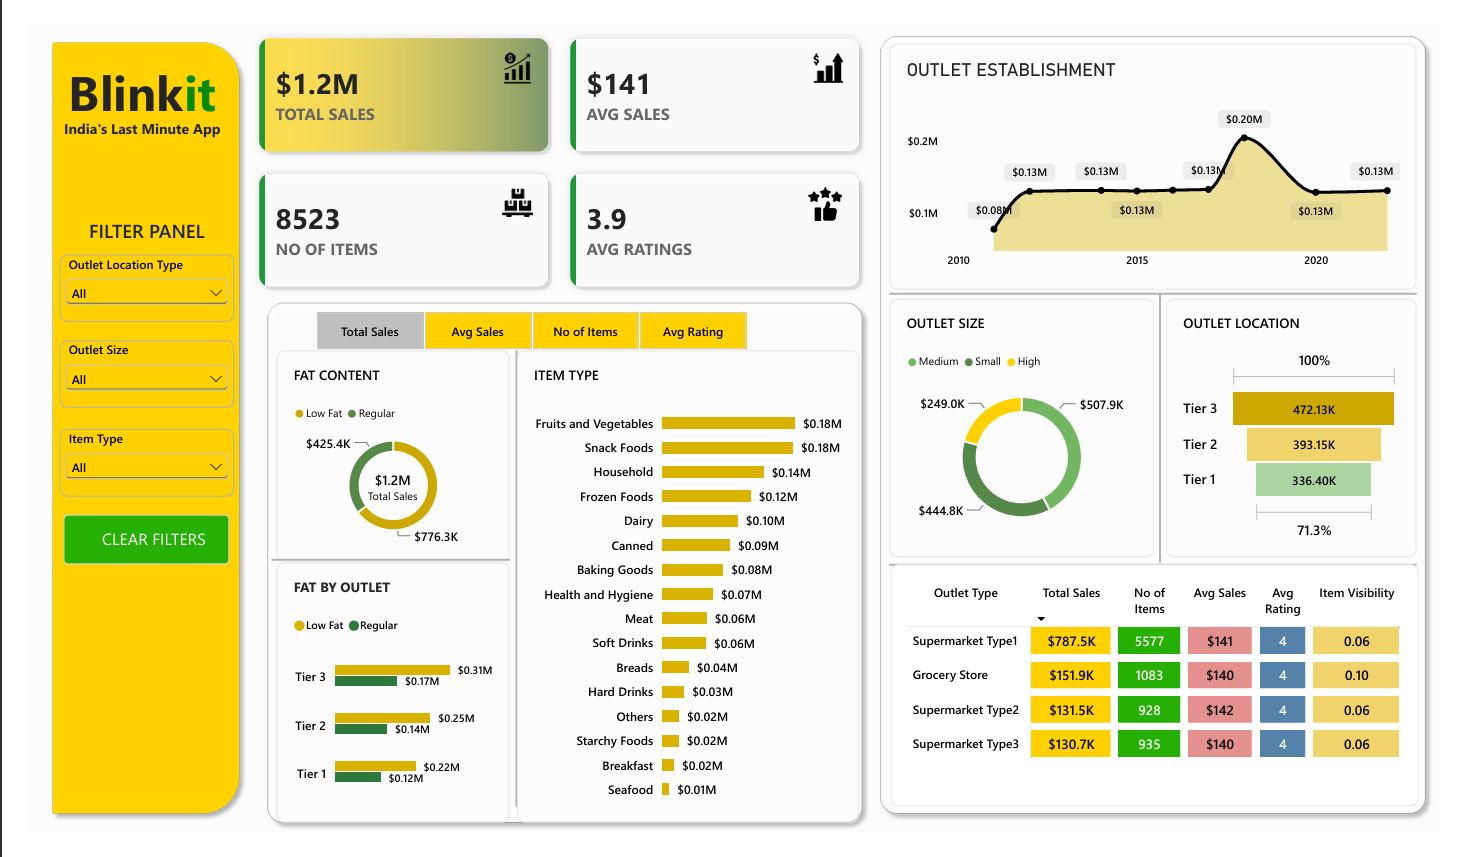

Layout of this report page (visuals, bound fields, positions):
{"tool":"powerbi","page":{"name":"Dashboard","canvas":[1400,800],"ordinal":0},"visuals":[{"type":"shape","box":[16.5,8.9,203.5,782.2],"z":0},{"type":"textbox","box":[33.1,34.3,164.1,71.2],"z":1000},{"type":"textbox","box":[33.1,94.1,164.1,28],"z":2000},{"type":"cardVisual","fields":{"Data":["BlinkIT Grocery Data.Total Sales","BlinkIT Grocery Data.Avg Sales","BlinkIT Grocery Data.Number of Items","BlinkIT Grocery Data.Avg Rating"]},"box":[220,2.5,616.8,269.6],"z":3000},{"type":"image","box":[469.3,28,34.3,30.5],"z":4000},{"type":"image","box":[778.3,28,33.1,30.5],"z":5000},{"type":"image","box":[469.3,161.5,34.3,30.5],"z":6000},{"type":"image","box":[770.7,161.5,40.7,33.1],"z":7000},{"type":"shape","box":[230.2,267.1,606.7,532.9],"z":8000},{"type":"donutChart","title":"FAT CONTENT","fields":{"Category":["BlinkIT Grocery Data.Item Fat Content"],"Y":["BlinkIT Grocery Data.Total Sales"]},"box":[248,323,231.5,209.8],"z":9000},{"type":"slicer","fields":{"Values":["Metrics.Metrics"]},"box":[267.1,283.6,465,40],"z":10000},{"type":"cardVisual","fields":{"Data":["BlinkIT Grocery Data.Total Sales"]},"box":[316.7,427.3,92.8,64.9],"z":11000},{"type":"clusteredBarChart","title":"FAT BY OUTLET","fields":{"Category":["BlinkIT Grocery Data.Outlet Location Type"],"Series":["BlinkIT Grocery Data.Item Fat Content"],"Y":["BlinkIT Grocery Data.Total Sales"]},"box":[248,532.9,231.5,258.2],"z":12000},{"type":"shape","box":[242.9,527.8,236.6,5.1],"z":13000},{"type":"shape","box":[479.5,323,12.7,451.5],"z":14000},{"type":"barChart","title":"ITEM TYPE","fields":{"Category":["BlinkIT Grocery Data.Item Type"],"Y":["BlinkIT Grocery Data.Total Sales"]},"box":[485.8,323,339.6,468],"z":15000},{"type":"shape","box":[836.8,2.5,558.3,788.5],"z":16000},{"type":"lineChart","title":"OUTLET ESTABLISHMENT","fields":{"Category":["BlinkIT Grocery Data.Outlet Establishment Year"],"Y":["BlinkIT Grocery Data.Total Sales"]},"box":[854.7,19.1,522.7,244.2],"z":17000},{"type":"shape","box":[854.7,262,522.7,10.2],"z":18000},{"type":"donutChart","title":"OUTLET SIZE","fields":{"Category":["BlinkIT Grocery Data.Outlet Size"],"Y":["BlinkIT Grocery Data.Total Sales"]},"box":[854.7,272.2,262,255.6],"z":19000},{"type":"shape","box":[1116.6,267.1,12.7,265.8],"z":20000},{"type":"funnel","title":"OUTLET LOCATION","fields":{"Category":["BlinkIT Grocery Data.Outlet Location Type"],"Y":["Sum(BlinkIT Grocery Data.Sales)"]},"box":[1129.4,272.2,248,255.6],"z":21000},{"type":"shape","box":[854.7,530.3,522.7,10.2],"z":22000},{"type":"pivotTable","title":"OUTLET TYPE","fields":{"Rows":["BlinkIT Grocery Data.Outlet Type"],"Values":["BlinkIT Grocery Data.Total Sales","BlinkIT Grocery Data.No of Items","BlinkIT Grocery Data.Avg Sales","BlinkIT Grocery Data.Avg Rating","Avg(BlinkIT Grocery Data.Item Visibility)"]},"box":[855.9,535.4,522.7,239.1],"z":23000},{"type":"slicer","fields":{"Values":["BlinkIT Grocery Data.Outlet Location Type"]},"box":[33.1,227.7,173,67.4],"z":24000},{"type":"slicer","fields":{"Values":["BlinkIT Grocery Data.Outlet Size"]},"box":[33.1,312.9,173,67.4],"z":25000},{"type":"slicer","fields":{"Values":["BlinkIT Grocery Data.Item Type"]},"box":[33.1,400.6,173,67.4],"z":26000},{"type":"textbox","box":[33.1,192,173,26.7],"z":27000},{"type":"actionButton","box":[36.9,485.8,164.1,49.6],"z":27001}]}

Visuals, with their boxes in screenshot pixels (x1, y1, x2, y2), scaled from the page's 1400x800 canvas onto the 1462x857 screenshot:
shape: left=17, top=10, right=230, bottom=847
textbox: left=35, top=37, right=206, bottom=113
textbox: left=35, top=101, right=206, bottom=131
cardVisual - BlinkIT Grocery Data.Total Sales x BlinkIT Grocery Data.Avg Sales: left=230, top=3, right=874, bottom=291
image: left=490, top=30, right=526, bottom=63
image: left=813, top=30, right=847, bottom=63
image: left=490, top=173, right=526, bottom=206
image: left=805, top=173, right=847, bottom=208
shape: left=240, top=286, right=874, bottom=856
"FAT CONTENT" donutChart: left=259, top=346, right=501, bottom=571
slicer - Metrics.Metrics: left=279, top=304, right=765, bottom=347
cardVisual - BlinkIT Grocery Data.Total Sales: left=331, top=458, right=428, bottom=527
"FAT BY OUTLET" clusteredBarChart: left=259, top=571, right=501, bottom=847
shape: left=254, top=565, right=501, bottom=571
shape: left=501, top=346, right=514, bottom=830
"ITEM TYPE" barChart: left=507, top=346, right=862, bottom=847
shape: left=874, top=3, right=1457, bottom=847
"OUTLET ESTABLISHMENT" lineChart: left=893, top=20, right=1438, bottom=282
shape: left=893, top=281, right=1438, bottom=292
"OUTLET SIZE" donutChart: left=893, top=292, right=1166, bottom=565
shape: left=1166, top=286, right=1179, bottom=571
"OUTLET LOCATION" funnel: left=1179, top=292, right=1438, bottom=565
shape: left=893, top=568, right=1438, bottom=579
"OUTLET TYPE" pivotTable: left=894, top=574, right=1440, bottom=830
slicer - BlinkIT Grocery Data.Outlet Location Type: left=35, top=244, right=215, bottom=316
slicer - BlinkIT Grocery Data.Outlet Size: left=35, top=335, right=215, bottom=407
slicer - BlinkIT Grocery Data.Item Type: left=35, top=429, right=215, bottom=501
textbox: left=35, top=206, right=215, bottom=234
actionButton: left=39, top=520, right=210, bottom=574
